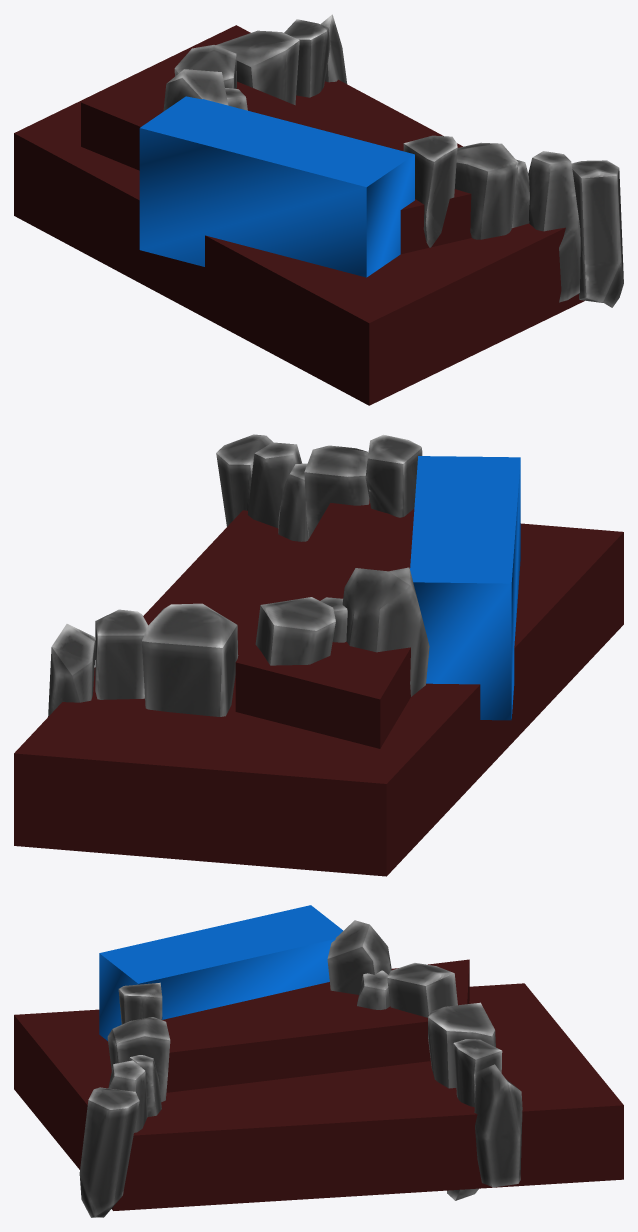
File: Rock_Placed_1.fbx
3 views of the same model, one above another, from view 1: azimuth 30°, elevation 25°; view 2: azimuth 150°, elevation 25°; view 3: azimuth 270°, elevation 25° (orthographic). The views are drawn at different scales.
Visible parts, largest first — view 1: output4.001, rock_4.001, rock_3.002, rock_3.001, rock_1.003, rock_1.001, rock_1.002, rock_4.003, rock_4.002, rock_2.001, rock_3.003; view 2: output4.001, rock_1.003, rock_4.003, rock_4.002, rock_1.002, rock_3.001, rock_1.001, rock_2.001, rock_3.002, rock_4.001, rock_3.003, rock_3.004; view 3: output4.001, rock_4.001, rock_2.001, rock_1.003, rock_4.003, rock_4.002, rock_3.001, rock_1.002, rock_1.001, rock_3.002, rock_3.004, rock_3.003.
Part boxes in pixels (<box>): output4.001: <box>14,25,584,405</box>; rock_4.001: <box>571,160,623,307</box>; rock_3.002: <box>528,151,580,302</box>; rock_3.001: <box>455,142,518,239</box>; rock_1.003: <box>216,30,299,105</box>; rock_1.001: <box>403,135,457,247</box>; rock_1.002: <box>284,19,330,97</box>; rock_4.003: <box>163,69,228,111</box>; rock_4.002: <box>174,45,236,88</box>; rock_2.001: <box>320,14,347,83</box>; rock_3.003: <box>511,159,529,228</box>; output4.001: <box>14,456,623,876</box>; rock_1.003: <box>141,603,238,716</box>; rock_4.003: <box>342,567,429,696</box>; rock_4.002: <box>255,597,335,665</box>; rock_1.002: <box>95,609,147,699</box>; rock_3.001: <box>304,445,369,538</box>; rock_1.001: <box>365,434,422,517</box>; rock_2.001: <box>48,624,95,716</box>; rock_3.002: <box>247,442,302,527</box>; rock_4.001: <box>216,434,272,526</box>; rock_3.003: <box>278,463,308,541</box>; rock_3.004: <box>320,597,347,642</box>; output4.001: <box>14,905,623,1210</box>; rock_4.001: <box>79,1087,139,1217</box>; rock_2.001: <box>474,1064,522,1187</box>; rock_1.003: <box>428,1002,495,1200</box>; rock_4.003: <box>327,920,391,994</box>; rock_4.002: <box>387,963,457,1017</box>; rock_3.001: <box>107,1017,170,1101</box>; rock_1.002: <box>453,1039,502,1107</box>; rock_1.001: <box>118,982,162,1024</box>; rock_3.002: <box>108,1060,147,1132</box>; rock_3.004: <box>357,970,390,1009</box>; rock_3.003: <box>129,1055,161,1116</box>.
Size of the model in its own units: 28431 by 17341 by 44439.
